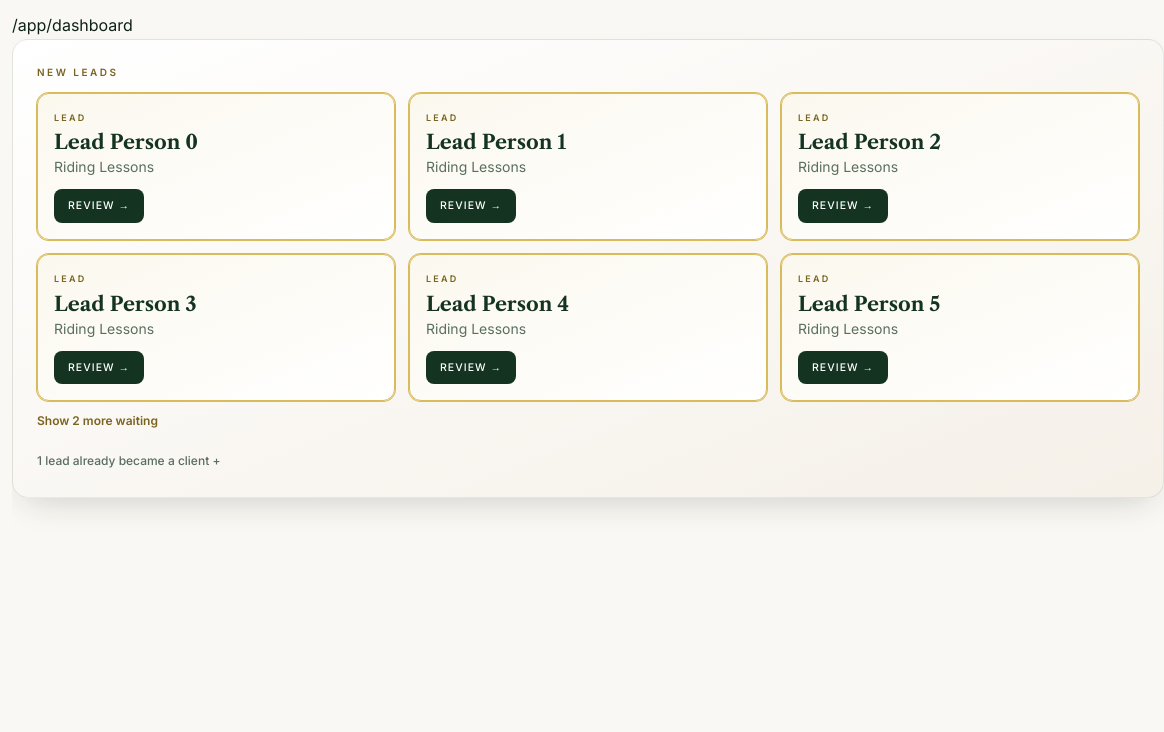
Test: LEADCLEAN — the "more waiting" control › collapses again
Click the button "Show 2 more waiting" at (97, 422), box [37,412,158,432]
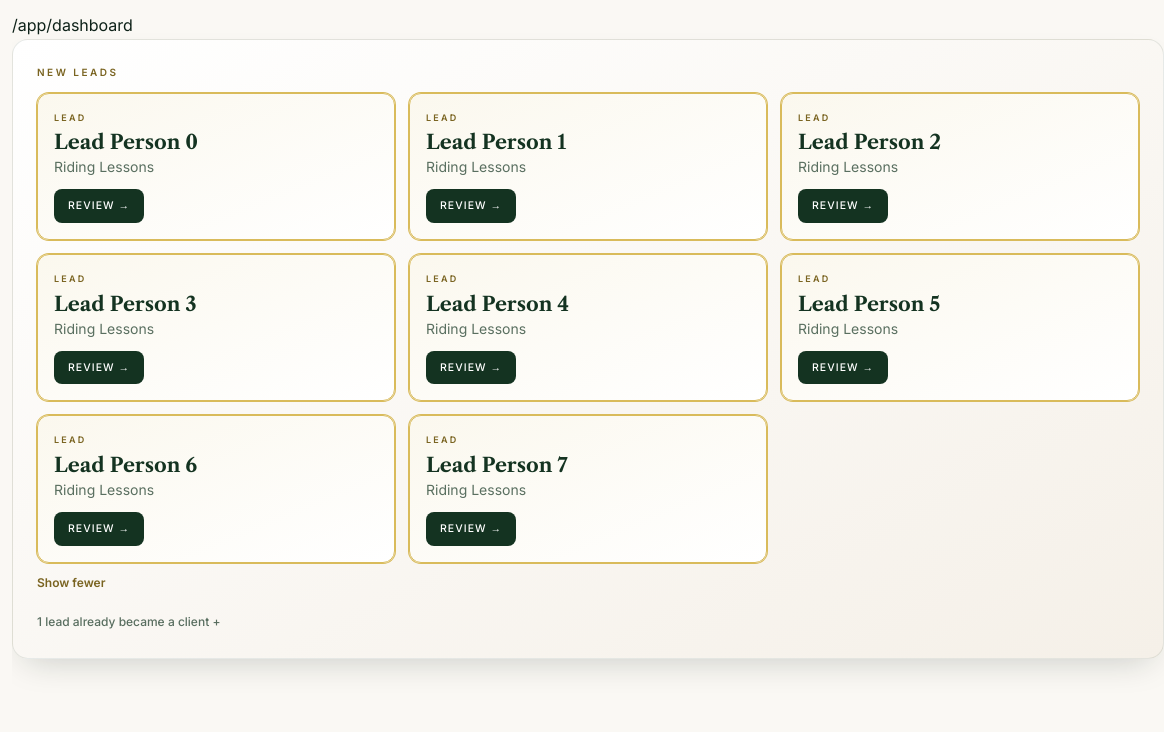
Click the button "Show fewer" at (71, 583), box [37,573,105,593]
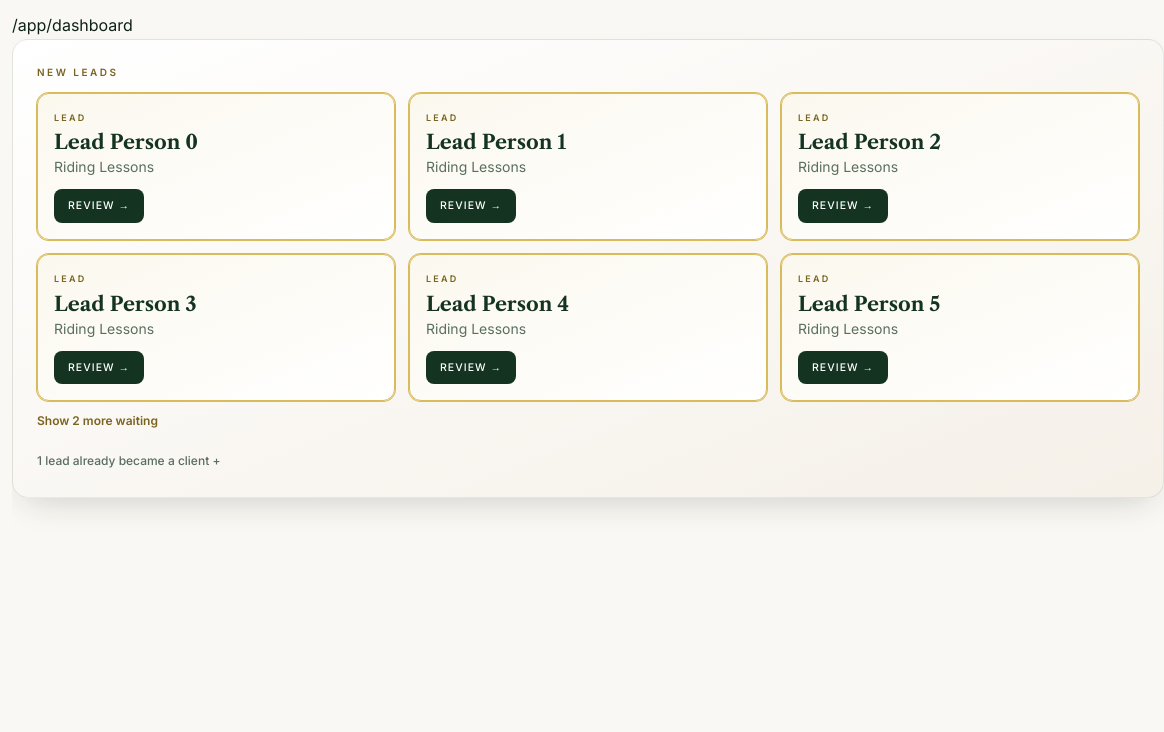
Expected: the text "Lead Person 0" is shown 6 times, [54,130,198,154]; [426,130,566,154]; [798,130,941,154]; [54,292,197,316]; [426,292,569,316]; [798,292,940,316]
Now the button "Show 2 more waiting" is shown, box [37,412,158,432]
